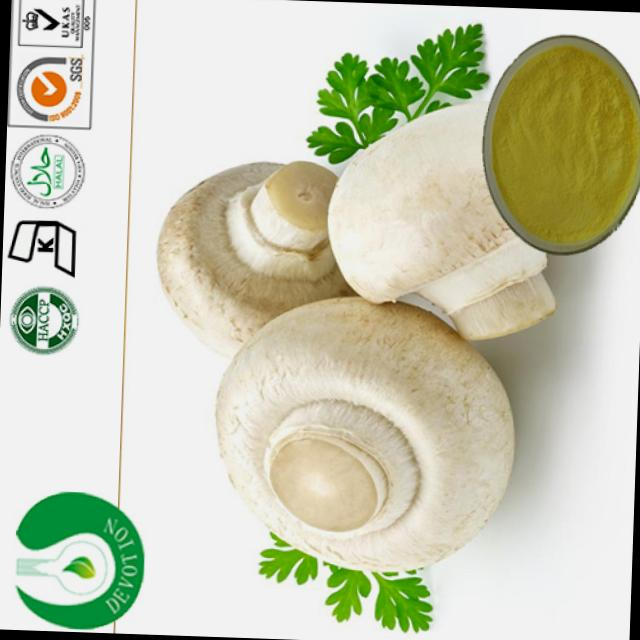Agaricus bisporus: (202, 292, 524, 574), (324, 59, 566, 347), (147, 126, 340, 361)
